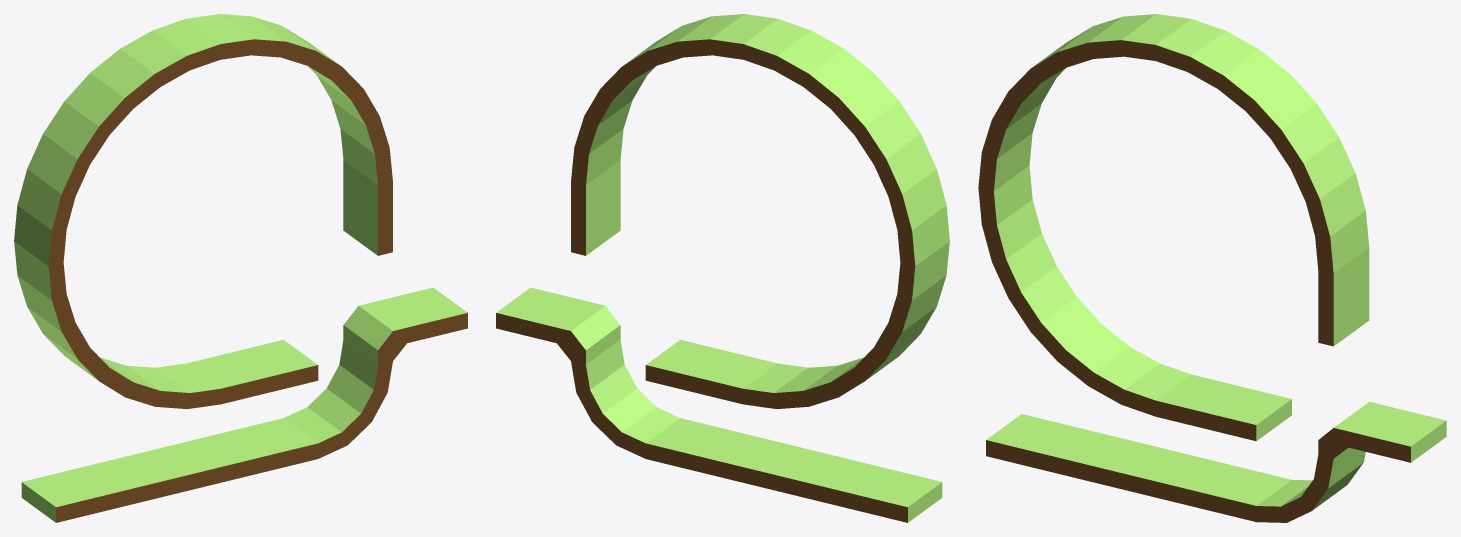
3 views of the same model, side by side, from view 1: azimuth 30°, elevation 25°; view 2: azimuth 150°, elevation 25°; view 3: azimuth 330°, elevation 25° (orthographic). The views are drawn at different scales.
Visible parts, largest first — view 1: Cube; view 2: Cube; view 3: Cube.
Part boxes in pixels (bbox=[...]): Cube: bbox=[14, 14, 467, 522]; Cube: bbox=[496, 14, 949, 522]; Cube: bbox=[978, 14, 1446, 522].
Bounding box in the file's own units: 5600 × 5600 × 800.
